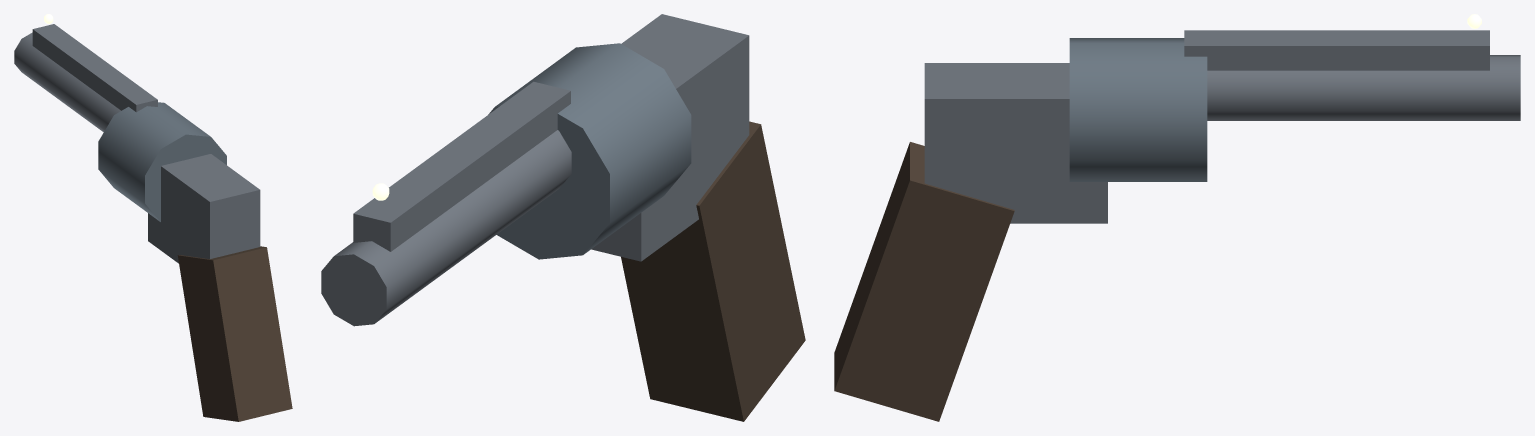
Rendered from service_revolver.glb.
The picture shows the model from 3 angles, left to right: view 1: azimuth 30°, elevation 25°; view 2: azimuth 150°, elevation 25°; view 3: azimuth 270°, elevation 25°; orthographic projection. The views are drawn at different scales.
Visible parts, largest first — view 1: Merged; view 2: Merged; view 3: Merged.
Part boxes in pixels (box(x1,y1,x2,y2)): Merged: box(14, 14, 292, 421); Merged: box(321, 14, 805, 421); Merged: box(834, 14, 1520, 421).
Size of the model in its own units: 0.089 by 0.2732 by 0.4377.
